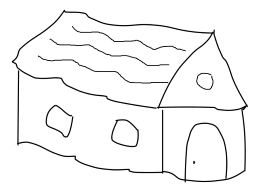big_house: (3, 1, 258, 188)
door: (176, 119, 232, 188)
open_window: (41, 101, 77, 142), (105, 115, 142, 154)
roof: (10, 4, 251, 111)
wall: (155, 99, 249, 184)
